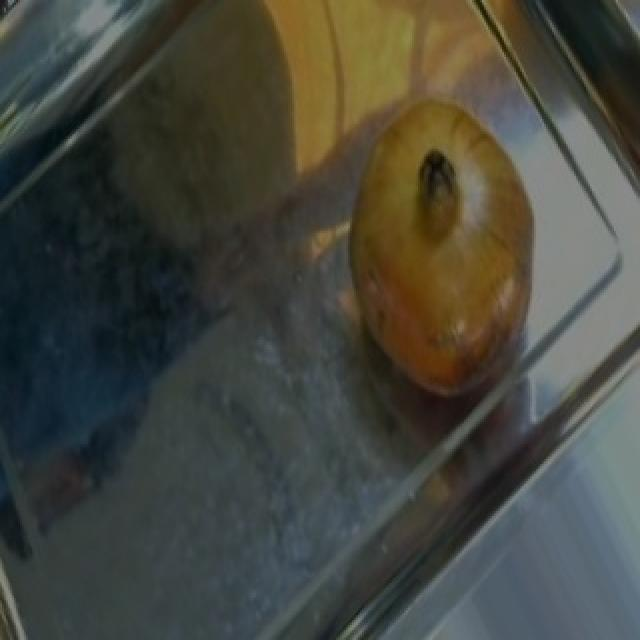fruit: (326, 164, 558, 424)
